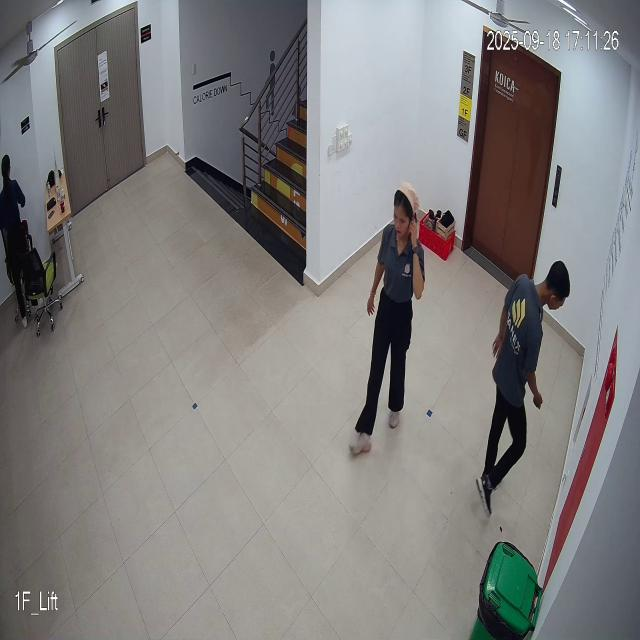face: (392, 177, 420, 249)
